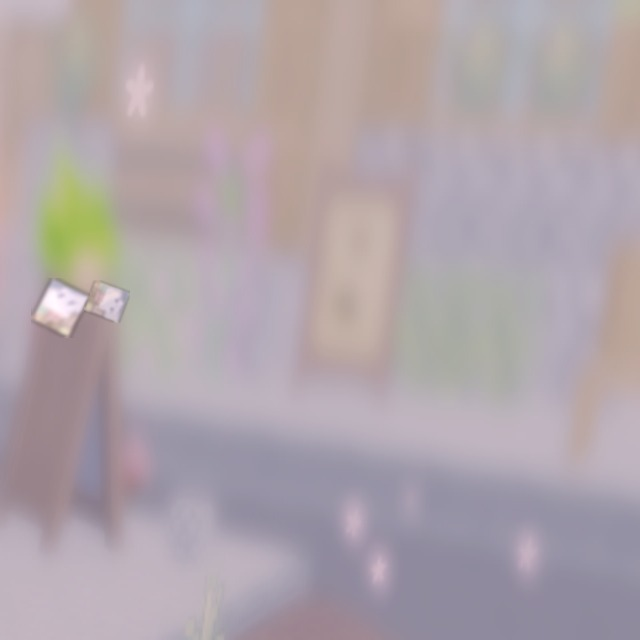urso_branco: (31, 278, 90, 338), (84, 280, 130, 323)
